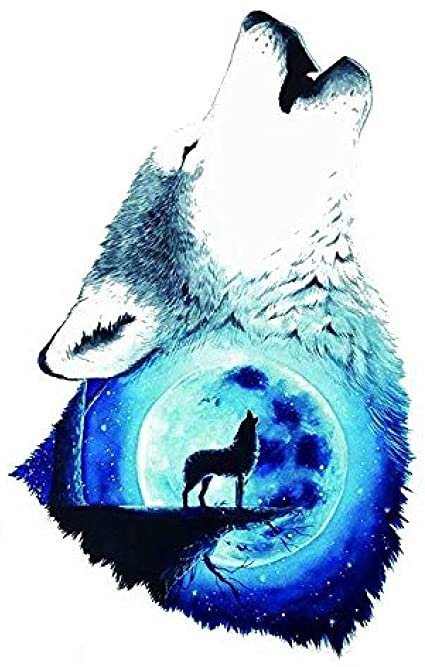Lobo: (8, 5, 411, 388), (146, 399, 289, 515)
